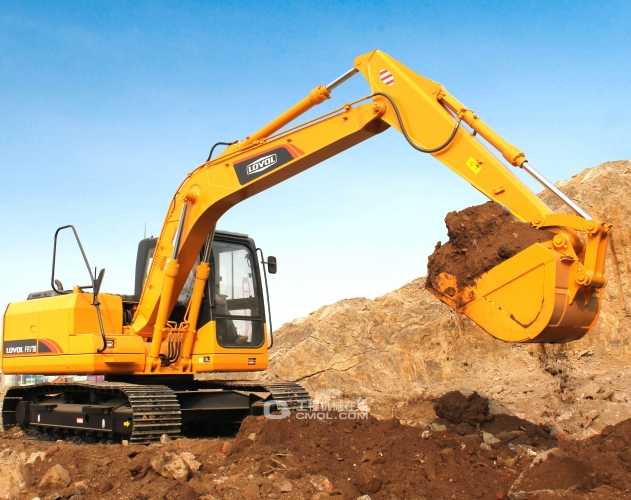excavator: (3, 56, 615, 442)
